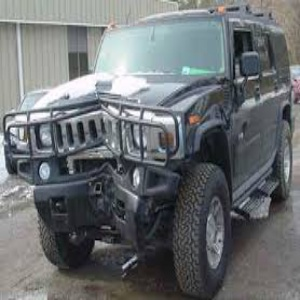bumper: (39, 174, 161, 246)
